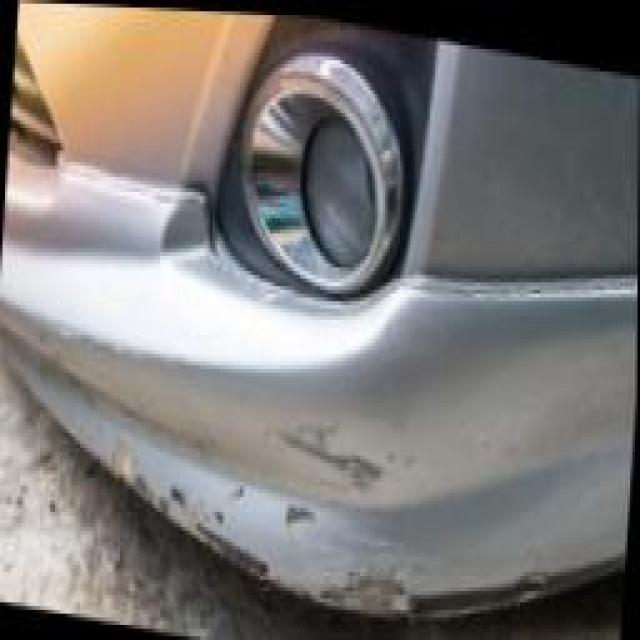Bumper: (48, 215, 551, 640)
